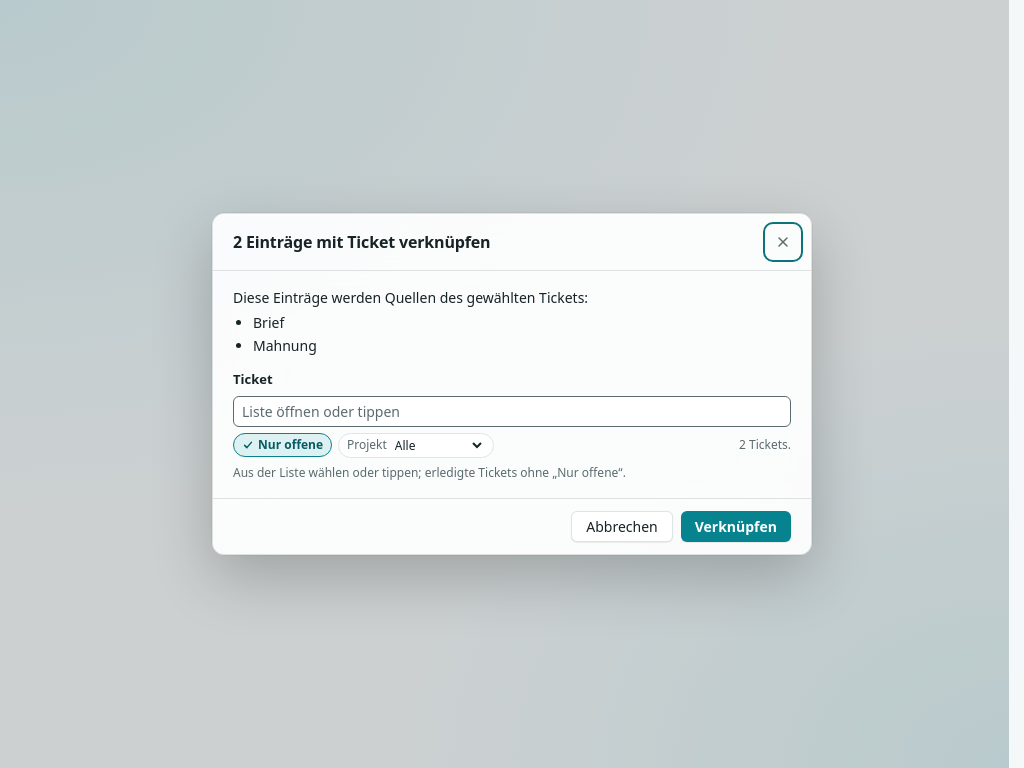
Test case: LinkTicketDialog › links several entries and keeps the failed ones with their reason
Type "steuer 2025" into the dropdown labelled "Ticket" at x=512, y=411, box [233,396,791,427]
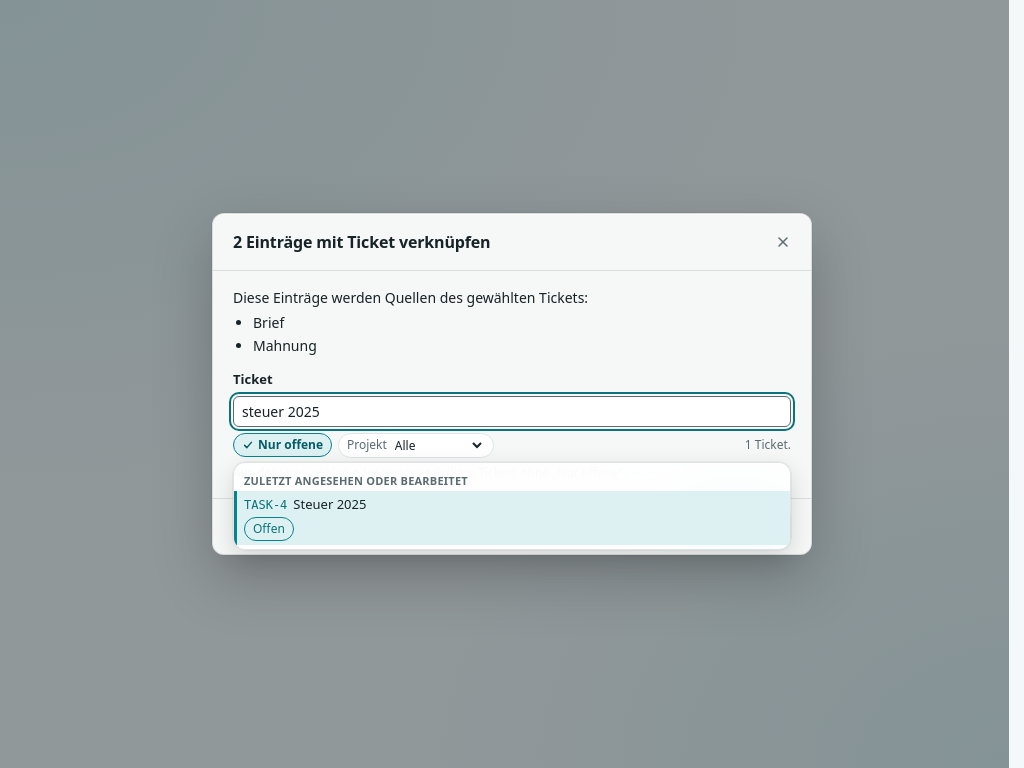
Press Enter in the dropdown labelled "Ticket", box [233,396,791,427]
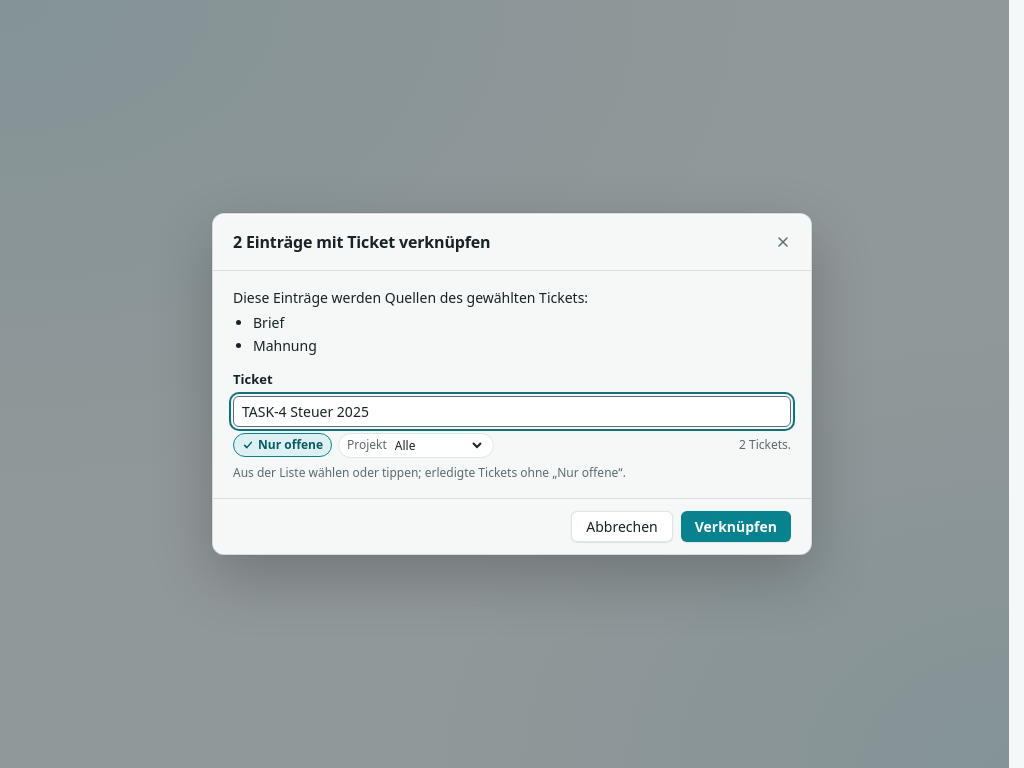
Check: the dropdown labelled "Ticket" holds "TASK-4 Steuer 2025", box [233,396,791,427]
Click the button "Verknüpfen" at x=736, y=526, box [681,511,791,542]
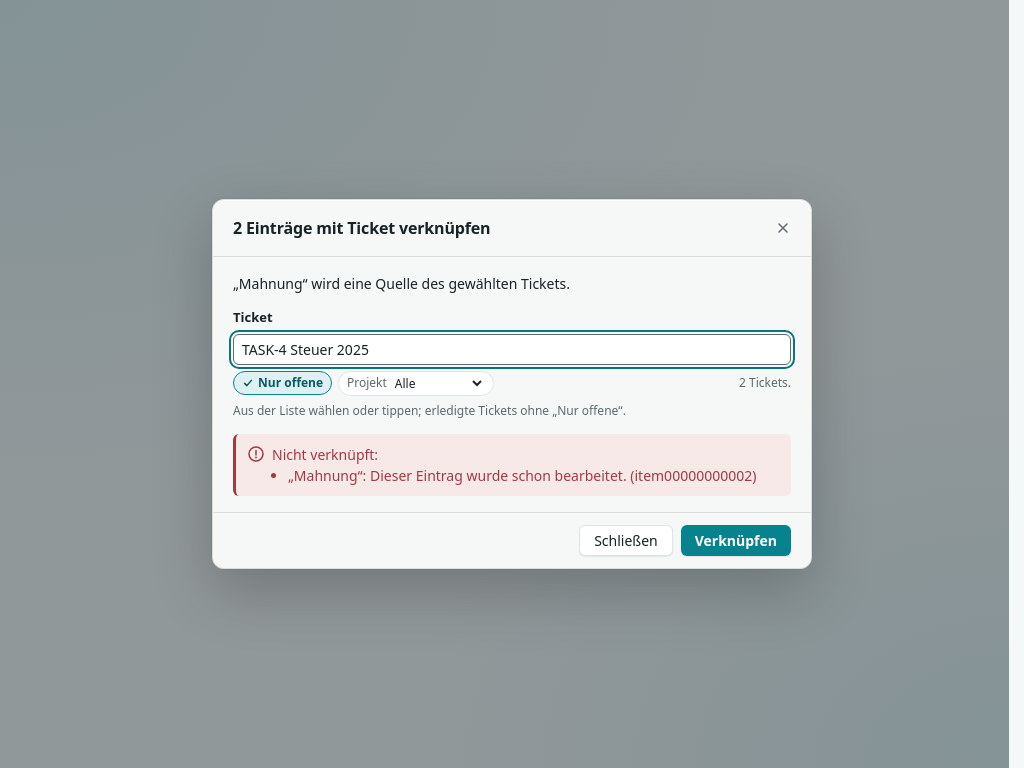
Check: the message shows "„Mahnung“: Dieser Eintrag wurde schon bearbeitet. (item00000000002)", box [288,466,756,485]
Check: the text "„Mahnung“ wird eine Quelle des gewählten Tickets." is shown, box [233,274,570,293]
Check: the button "Abbrechen" is gone
